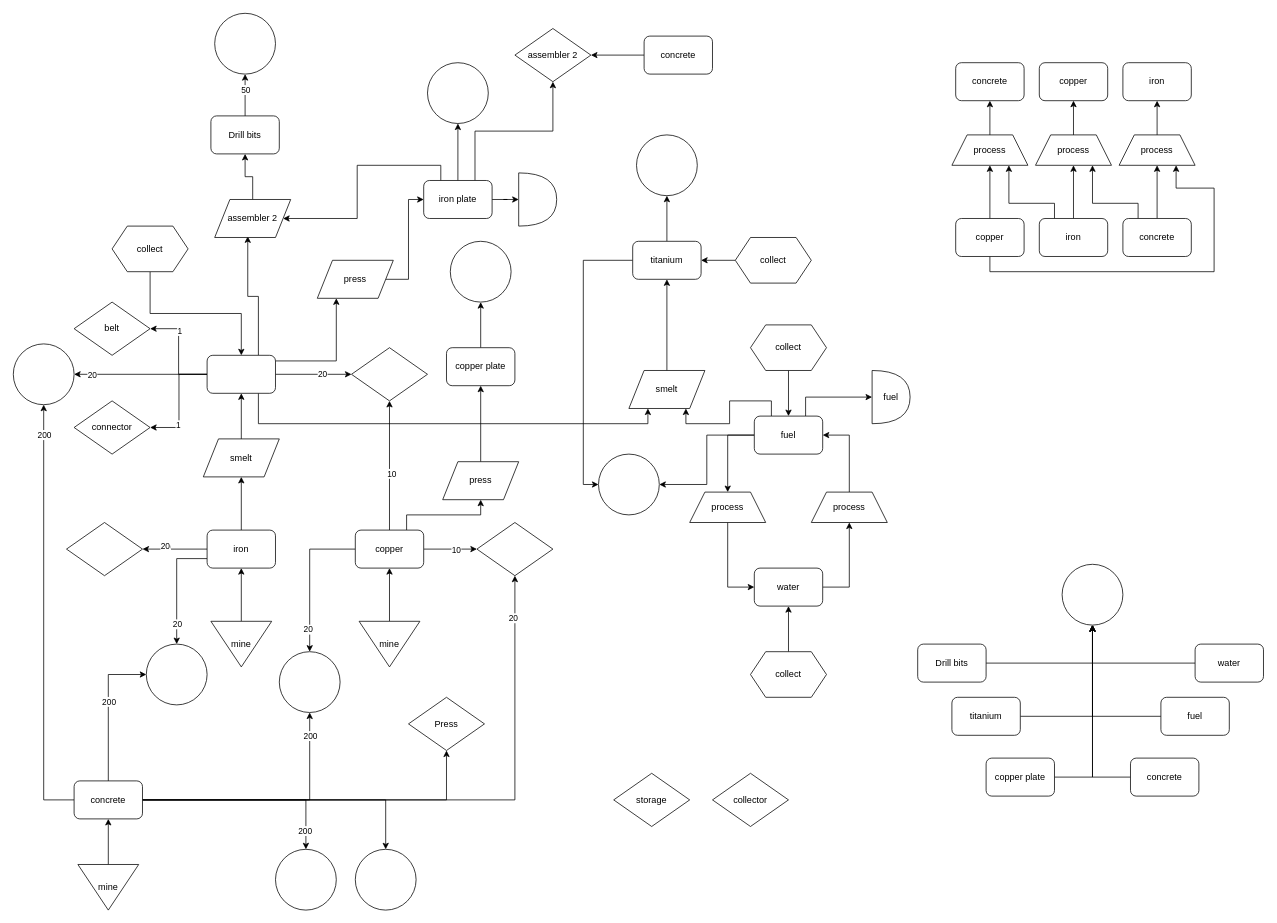
The diagram is 1277 pixels wide and 923 high, and some of its shapes have lost their labels. Each missing label, with the box of its shape:
assembler 2 unlock: (355, 849, 416, 910)
Better hull: (636, 134, 697, 196)
copper card: (279, 651, 340, 712)
drones: (598, 453, 659, 515)
Extra fuel: (427, 62, 488, 124)
hull: (518, 172, 557, 226)
iron card: (146, 643, 207, 705)
iron ingot: (206, 355, 276, 393)
iron ingot card: (13, 343, 74, 405)
miner: (351, 347, 428, 401)
miner upgrade: (214, 13, 276, 74)
press unlock: (275, 849, 336, 910)
processor: (66, 522, 142, 576)
smelter: (476, 522, 553, 576)
smelter upgrade: (450, 241, 511, 302)
Win game altar: (1061, 564, 1123, 625)
